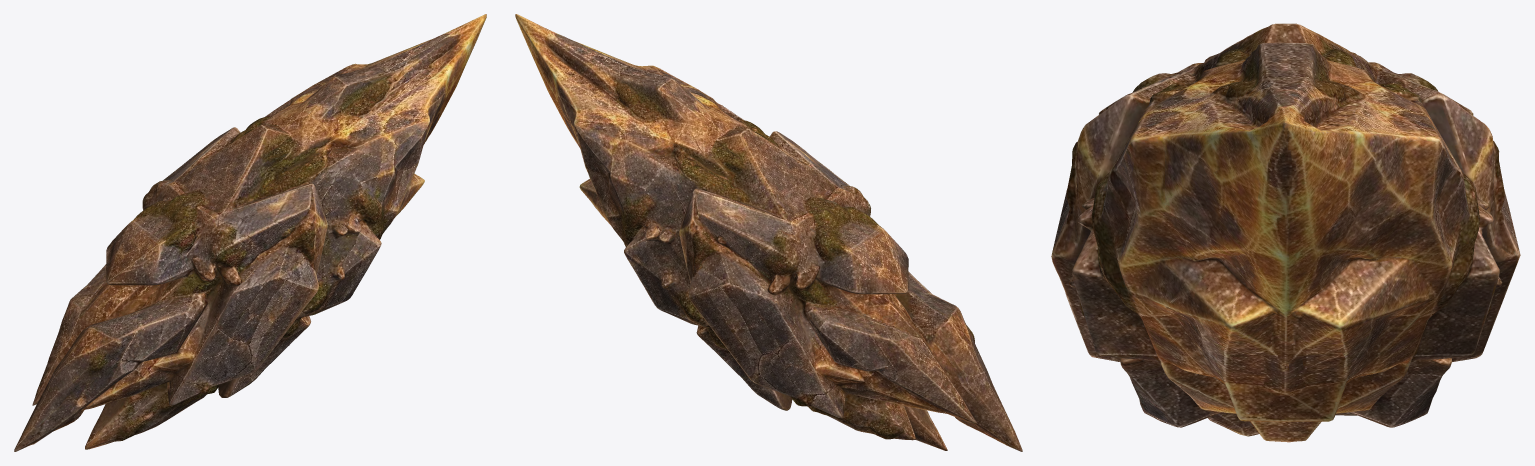
Rendered from terra.glb.
The picture shows the model from 3 angles, left to right: view 1: azimuth 30°, elevation 25°; view 2: azimuth 150°, elevation 25°; view 3: azimuth 270°, elevation 25°; orthographic projection. The views are drawn at different scales.
Visible parts, largest first — view 1: tripo_node_b6ac955f-9b20-477e-b2f5-522bb8f7e646; view 2: tripo_node_b6ac955f-9b20-477e-b2f5-522bb8f7e646; view 3: tripo_node_b6ac955f-9b20-477e-b2f5-522bb8f7e646.
Part boxes in pixels (bbox=[...]): tripo_node_b6ac955f-9b20-477e-b2f5-522bb8f7e646: bbox=[14, 14, 486, 451]; tripo_node_b6ac955f-9b20-477e-b2f5-522bb8f7e646: bbox=[515, 14, 1022, 451]; tripo_node_b6ac955f-9b20-477e-b2f5-522bb8f7e646: bbox=[1051, 23, 1520, 442].
Size of the model in its own units: 0.9747 by 0.6377 by 0.411.
1 material, 1 textured.
